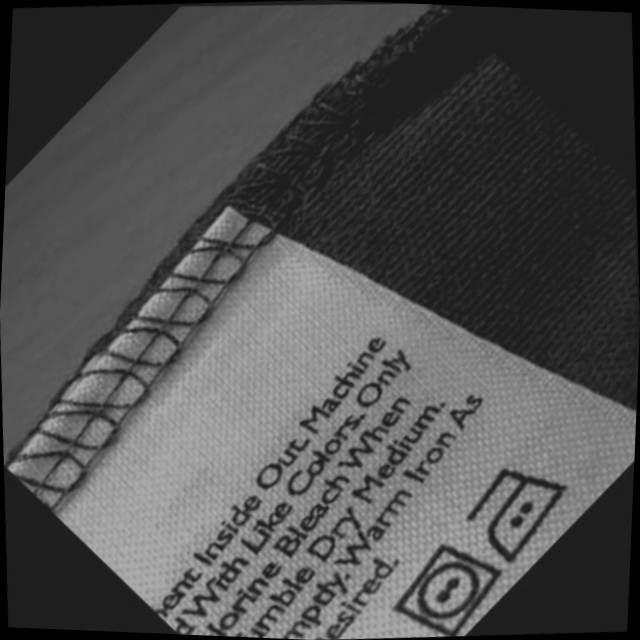iron_medium: (463, 461, 579, 566)
tumble_dry_medium: (390, 540, 510, 640)
